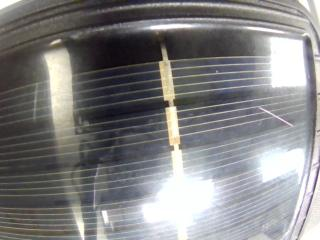crack: (258, 107, 293, 126)
solarboard: (0, 28, 314, 240)
